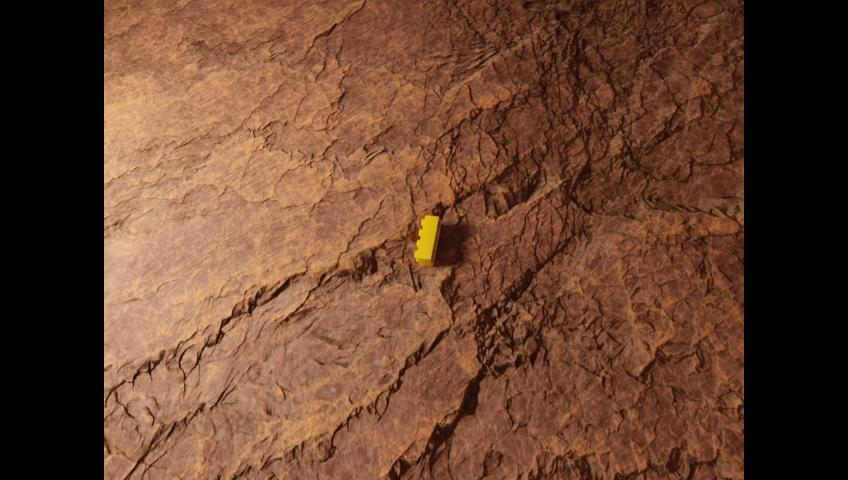4x2_yellow: (414, 215, 440, 266)
